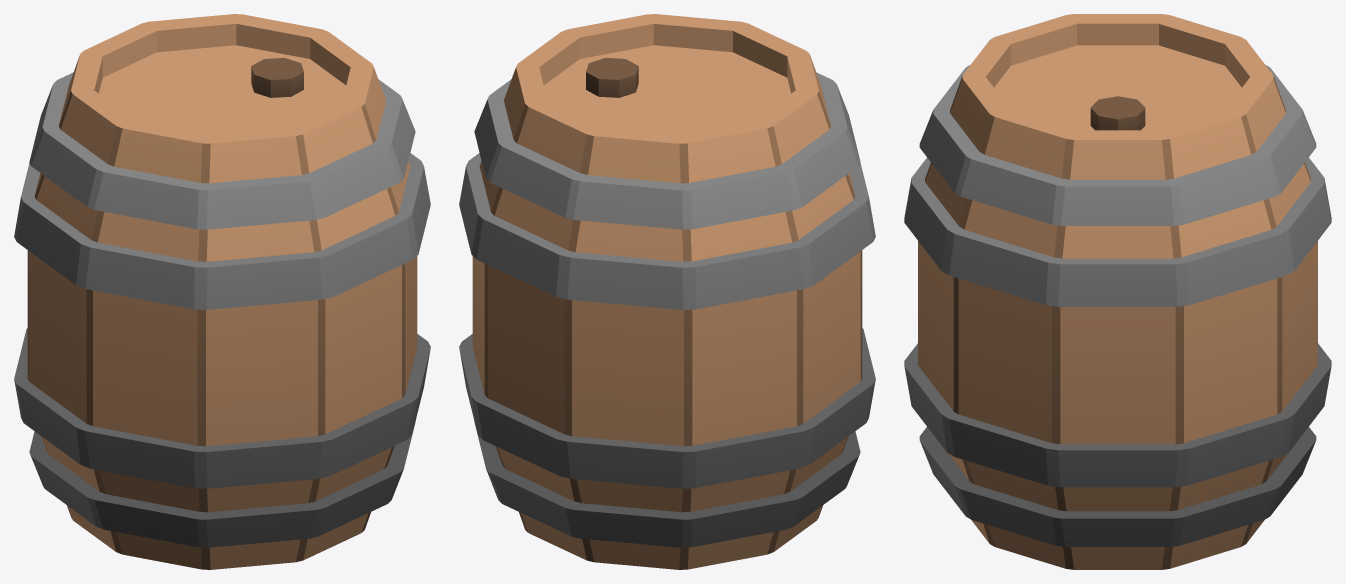
File: barrel-3.glb
3 views of the same model, side by side, from view 1: azimuth 30°, elevation 25°; view 2: azimuth 150°, elevation 25°; view 3: azimuth 270°, elevation 25° (orthographic).
Visible parts, largest first — view 1: barrel 3; view 2: barrel 3; view 3: barrel 3.
Part boxes in pixels (bbox=[...]): barrel 3: bbox=[14, 14, 430, 569]; barrel 3: bbox=[459, 14, 875, 569]; barrel 3: bbox=[904, 14, 1331, 569].
Size of the model in its own units: 0.7838 by 0.9065 by 0.8161.
1 material, 1 textured.
